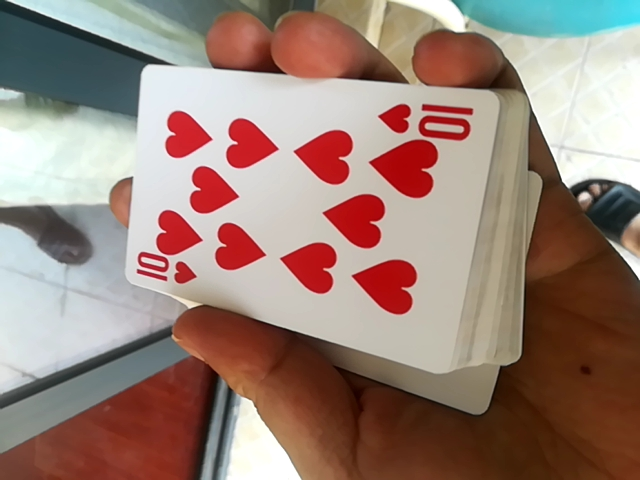hx 10: (121, 61, 465, 372)
